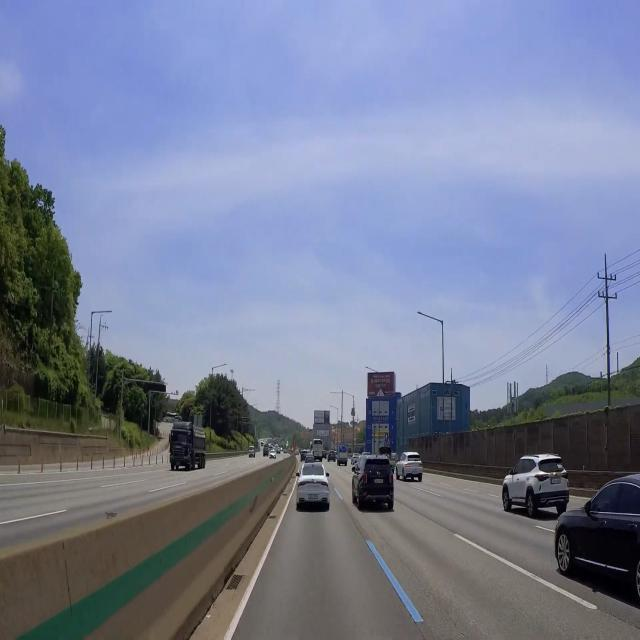car: (307, 486, 320, 508), (371, 476, 385, 487), (550, 476, 565, 486), (411, 468, 420, 479), (174, 457, 181, 468)
